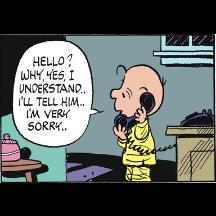charlie: (108, 62, 168, 181)
